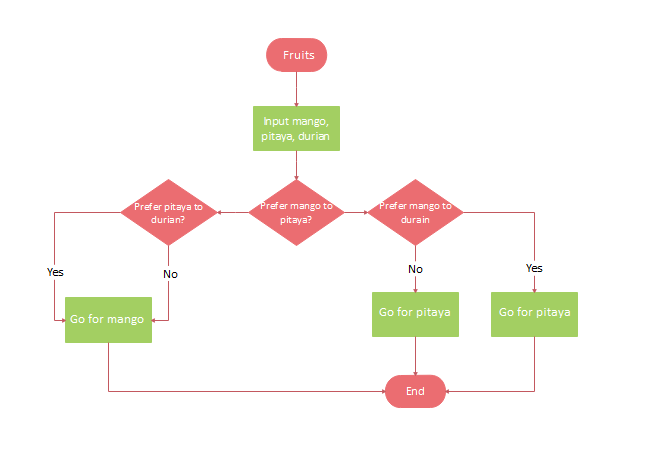arrow: (106, 342, 388, 396), (51, 210, 125, 323), (462, 209, 539, 293), (445, 336, 539, 396), (150, 245, 173, 325), (412, 243, 420, 292), (411, 334, 420, 375), (216, 206, 252, 216), (292, 70, 301, 106), (292, 148, 300, 181), (343, 209, 371, 216)
decision: (119, 176, 220, 248), (367, 178, 466, 246), (247, 179, 347, 246)
process: (63, 294, 154, 345), (370, 290, 463, 339), (489, 290, 581, 339), (251, 104, 342, 153)
terminator: (264, 36, 329, 74), (384, 371, 447, 409)
text: (258, 200, 335, 227), (260, 116, 332, 142), (378, 200, 452, 225), (132, 200, 205, 225), (376, 305, 453, 320), (68, 313, 149, 326), (499, 305, 574, 319), (282, 50, 317, 61), (403, 385, 428, 397), (161, 268, 179, 280), (406, 264, 425, 275), (524, 262, 542, 273), (46, 267, 65, 277)
